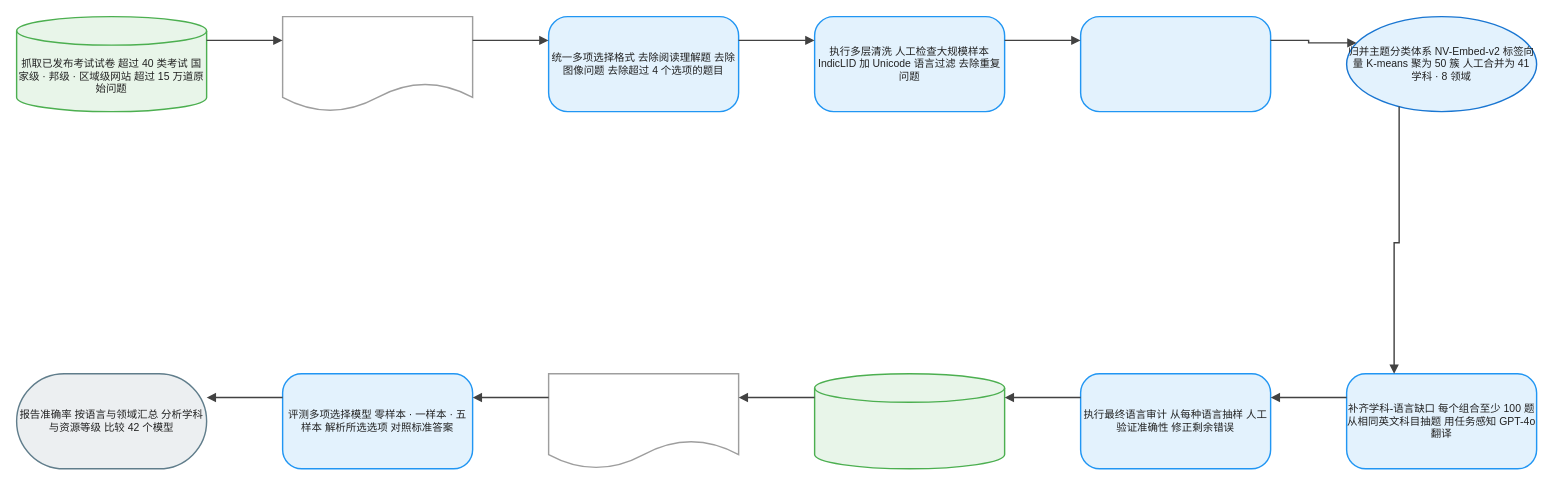
Some shapes in this 1554 by 486 pixel diagram are drawn without their labels. Each missing label, with the centre of its shape:
"保留印度本土覆盖 11 种印度语言 通识与文化知识 邦史 · 艺术 · 法律 · 理工" belongs at pixel 377 63.
"保留独立验证集 8,933 个样本 提供上下文示例 不与测试计分混合" belongs at pixel 643 421.
"发布 MILU 测试集 79,617 道四选一问题 11 种语言 · 41 个学科 八个主要领域" belongs at pixel 909 421.
"恢复缺失主题标签 初始仅 45% 标签准确 用 IndicTrans2 翻译成英文 GPT-4o-mini 生成约 2 万标签" belongs at pixel 1175 63.
